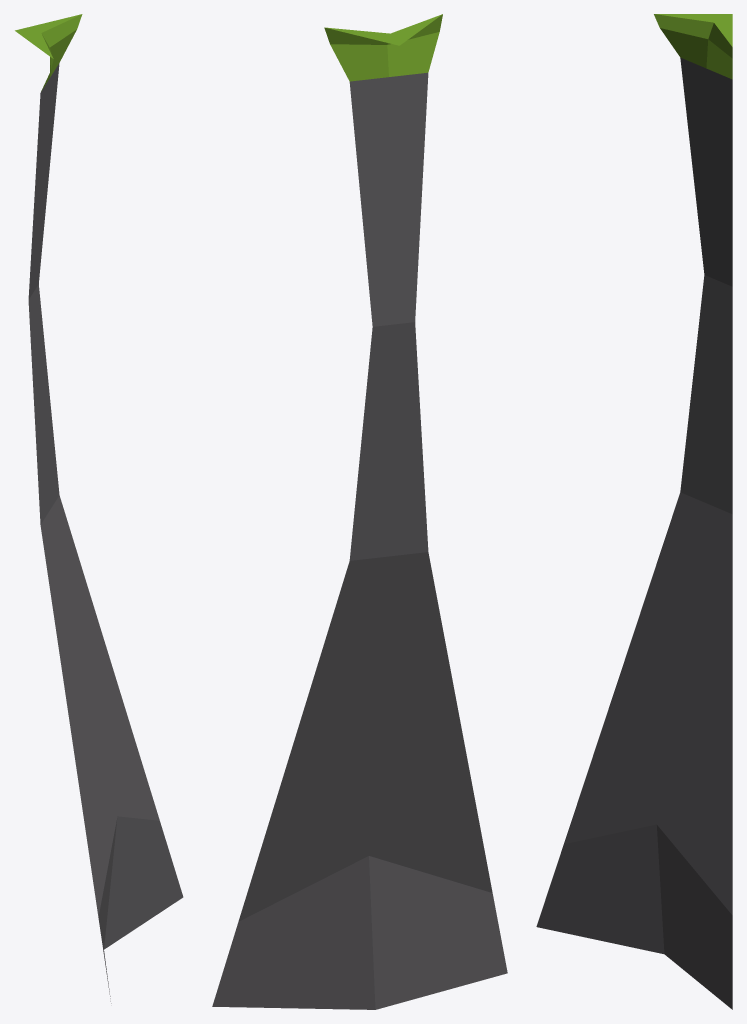
File: mesh_cliff_4x1m_connector.fbx
3 renders of one model, left to right at view 1: azimuth 30°, elevation 25°; view 2: azimuth 150°, elevation 25°; view 3: azimuth 270°, elevation 25°, orthographic. The views are drawn at different scales.
Visible parts, largest first — view 1: mesh_cliff_4x1m_connector; view 2: mesh_cliff_4x1m_connector; view 3: mesh_cliff_4x1m_connector.
Boxes of the visible parts, x1,y1,x2,y2 form: mesh_cliff_4x1m_connector: (15,14,183,1003); mesh_cliff_4x1m_connector: (212,14,507,1009); mesh_cliff_4x1m_connector: (536,14,732,1009).
Size of the model in its own units: 81.82 by 420 by 81.82.
